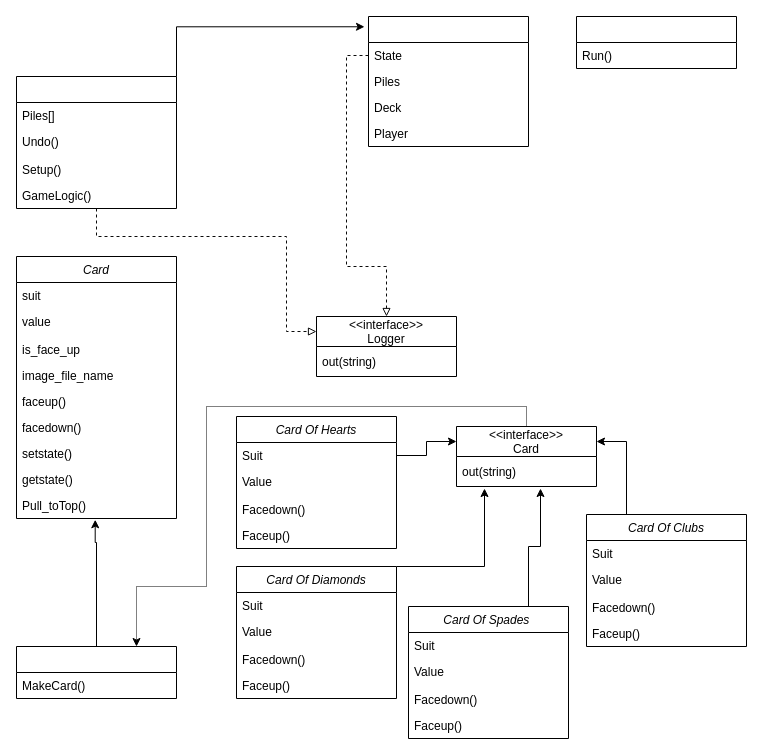
Some shapes in this 763 by 755 pixel diagram are drawn without their labels. The shapes that lost their labels are listed below. From the top down, each one's box as (x1, y1, x2, y2) in pixels, then its label:
(576, 16, 736, 68): Main
(368, 16, 528, 146): MyGame
(16, 76, 176, 208): Board
(16, 646, 176, 698): CardFactory
